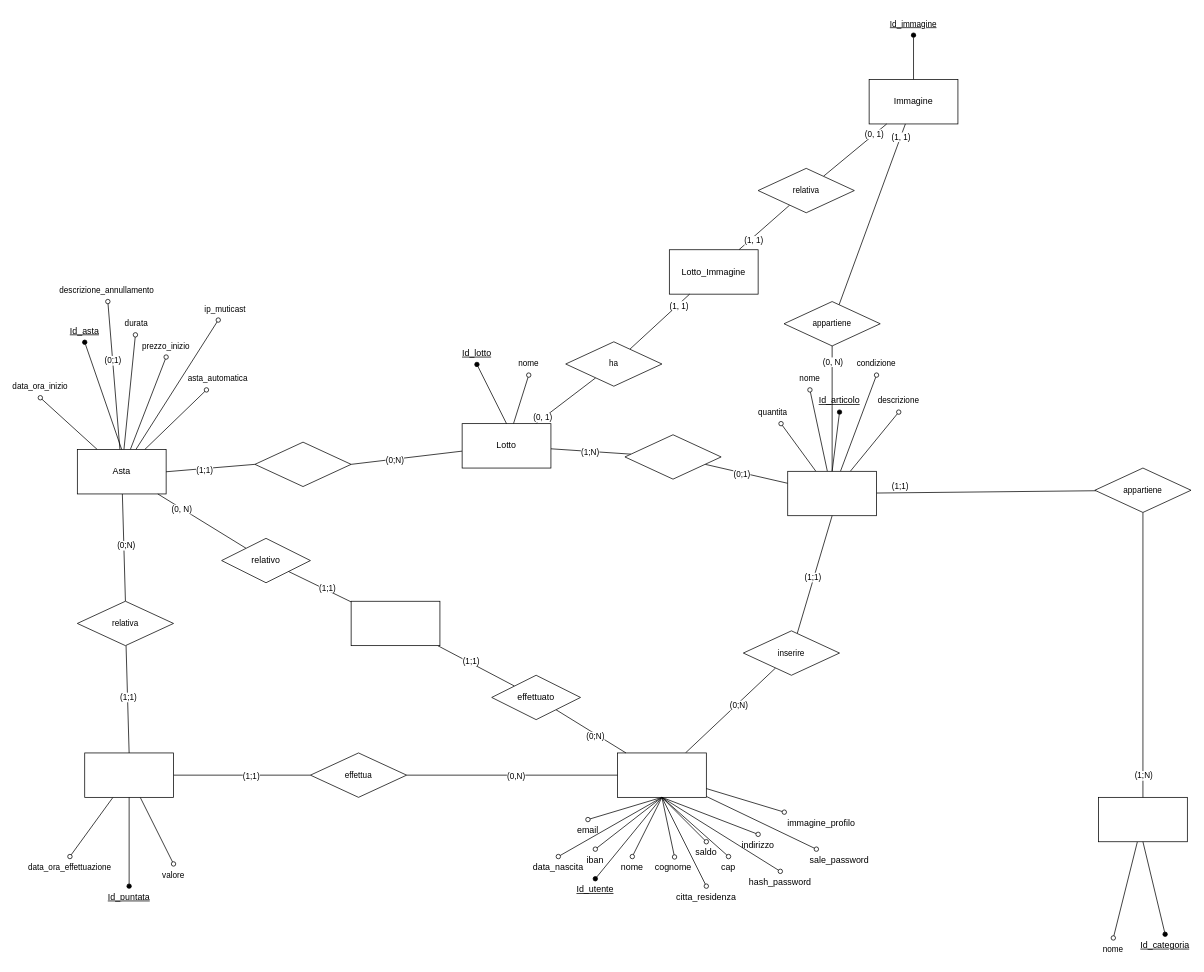
Image size: 1204x972. Some labels were removed from this diagram. Each missing label, with the box of its shape:
Articolo: (787, 471, 877, 516)
Categoria: (1098, 797, 1187, 842)
comprendere: (624, 434, 721, 479)
Puntata: (84, 752, 174, 797)
salvataggio: (350, 601, 440, 646)
soggetto: (254, 441, 351, 487)
Utente: (617, 752, 706, 797)
